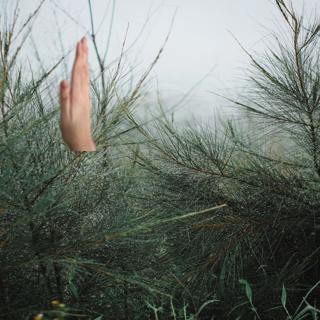Right: (51, 31, 98, 147)
